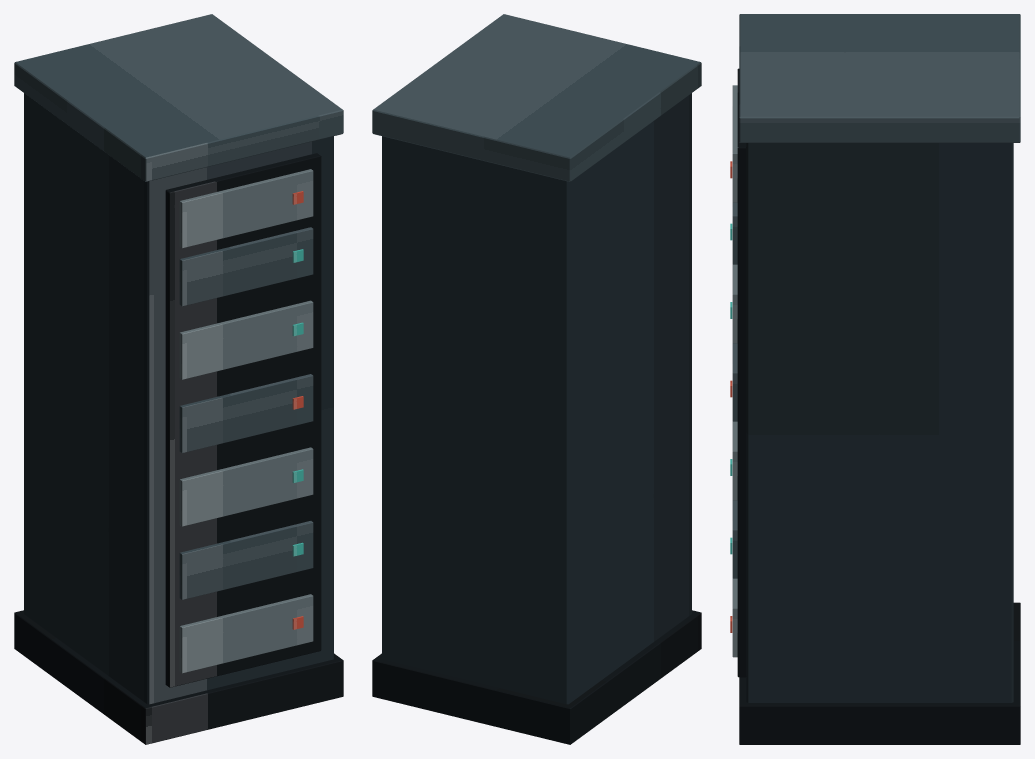
File: server_rack.glb
3 views of the same model, side by side, from view 1: azimuth 30°, elevation 25°; view 2: azimuth 150°, elevation 25°; view 3: azimuth 270°, elevation 25° (orthographic). The views are drawn at different scales.
Visible parts, largest first — view 1: RackBody, RackRecess, RackTop, RackBase, ServerTray_6, ServerTray_1, ServerTray_2, ServerTray_4, ServerTray_5, ServerTray_3, ServerTray_7; view 2: RackBody, RackTop, RackBase; view 3: RackBody, RackTop, RackBase, RackRecess, ServerTray_7.
Boxes of the visible parts, box(x1,y1,x2,y2) form: RackBody: box(24, 93, 333, 704); RackRecess: box(165, 153, 321, 687); RackTop: box(14, 14, 343, 181); RackBase: box(14, 610, 343, 744); ServerTray_6: box(179, 227, 313, 306); ServerTray_1: box(179, 594, 313, 673); ServerTray_2: box(179, 521, 313, 599); ServerTray_4: box(179, 374, 313, 453); ServerTray_5: box(179, 300, 313, 379); ServerTray_3: box(179, 447, 313, 526); ServerTray_7: box(179, 169, 313, 248); RackBody: box(382, 93, 691, 708); RackTop: box(372, 14, 701, 181); RackBase: box(372, 610, 701, 744); RackBody: box(746, 143, 1013, 702); RackTop: box(739, 14, 1020, 142); RackBase: box(739, 602, 1020, 744); RackRecess: box(737, 68, 746, 677); ServerTray_7: box(732, 85, 738, 202).
Size of the model in its own units: 0.68 by 1.92 by 0.805.
1 material, 1 textured.
